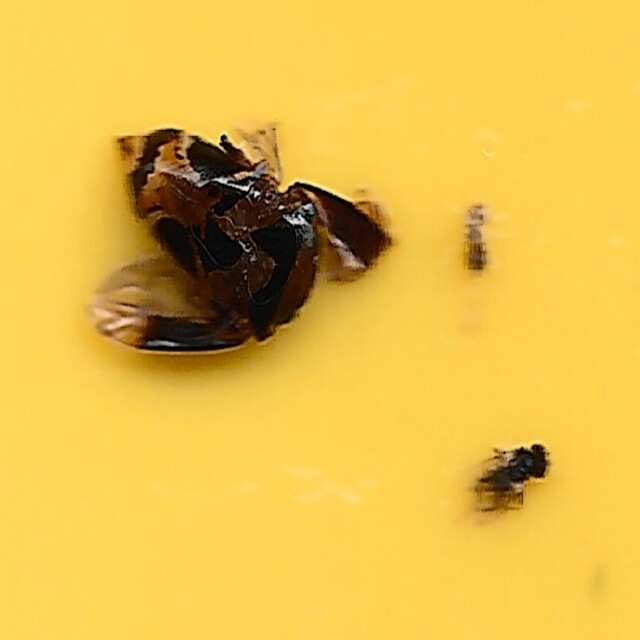Brachycera: (470, 439, 551, 521)
Hemiptera: (89, 119, 393, 361)
